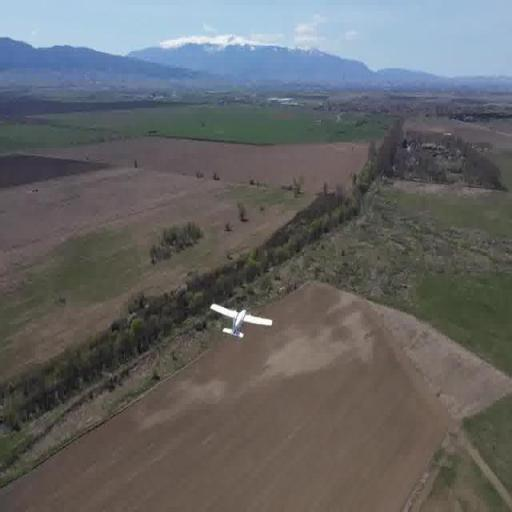uav: (208, 287, 276, 354)
